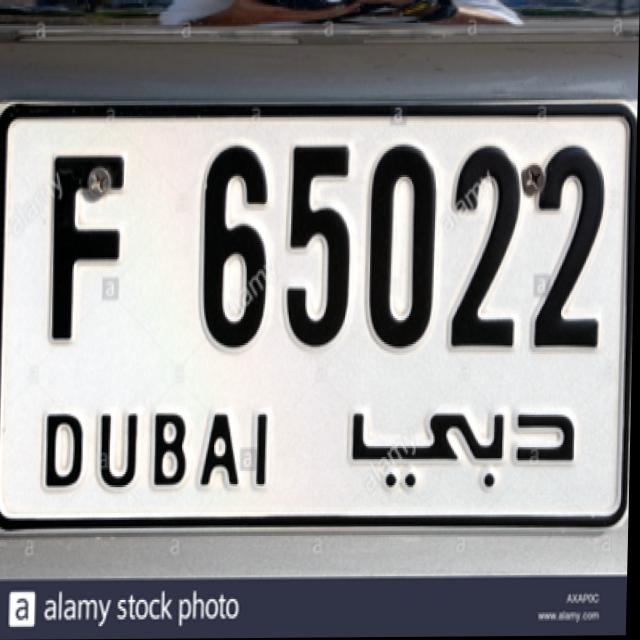licence: (34, 133, 615, 507)
